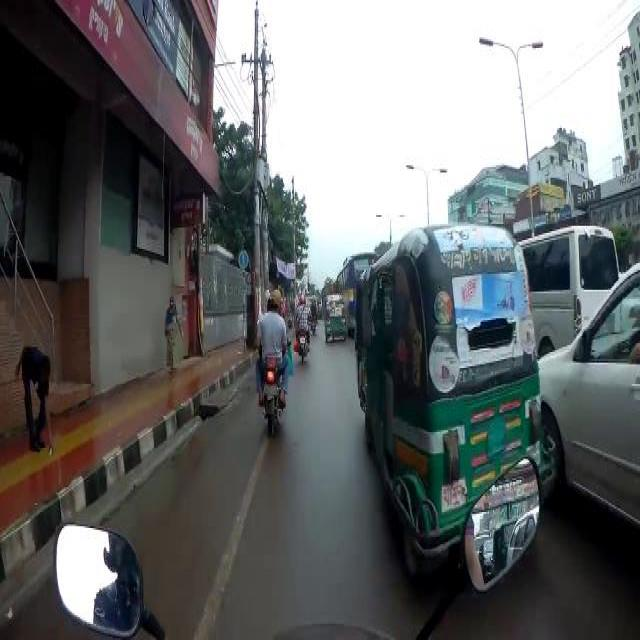bike: (250, 287, 292, 438), (294, 290, 313, 366)
vehicle: (364, 220, 563, 582), (519, 226, 625, 366), (335, 251, 375, 327), (322, 292, 351, 346)
